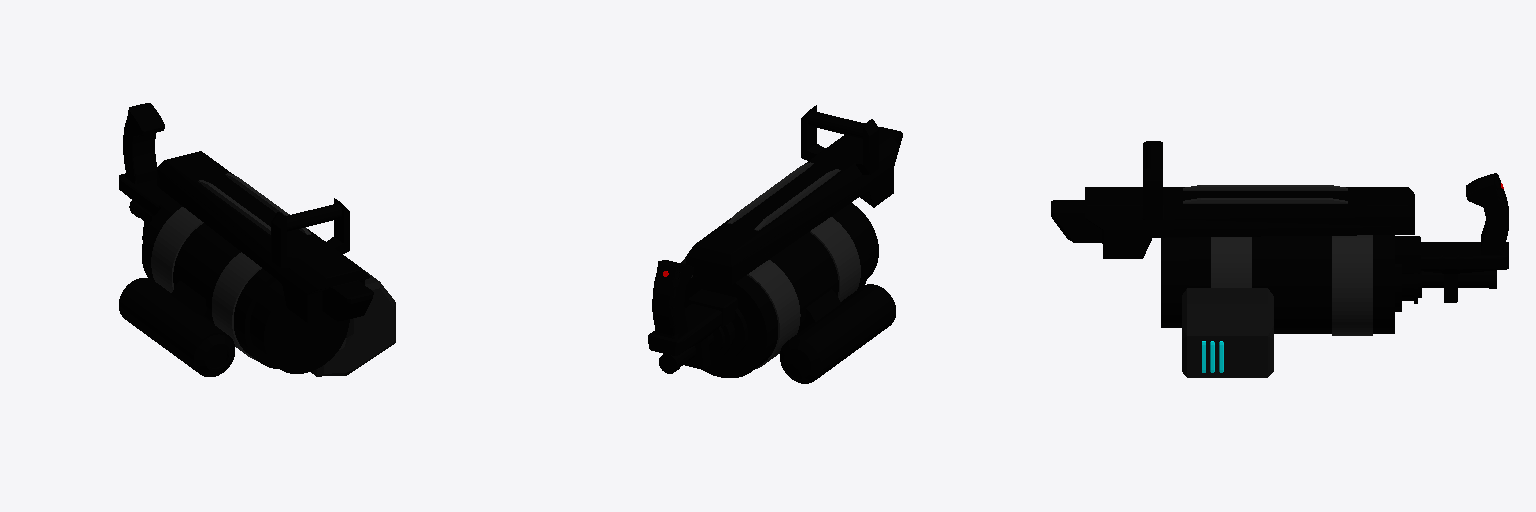
File: Minigun_Body.obj
The picture shows the model from 3 angles: view 1: azimuth 30°, elevation 25°; view 2: azimuth 150°, elevation 25°; view 3: azimuth 270°, elevation 25°; orthographic projection.
Parts seen in each view (by area): view 1: Cube.005_Cube.010; view 2: Cube.005_Cube.010; view 3: Cube.005_Cube.010.
Part boxes in pixels (left/top/right/bottom): Cube.005_Cube.010: left=119, top=103, right=395, bottom=376; Cube.005_Cube.010: left=648, top=105, right=902, bottom=383; Cube.005_Cube.010: left=1051, top=141, right=1508, bottom=377.
Bounding box in the file's own units: 1.1 × 1.07 × 2.29.